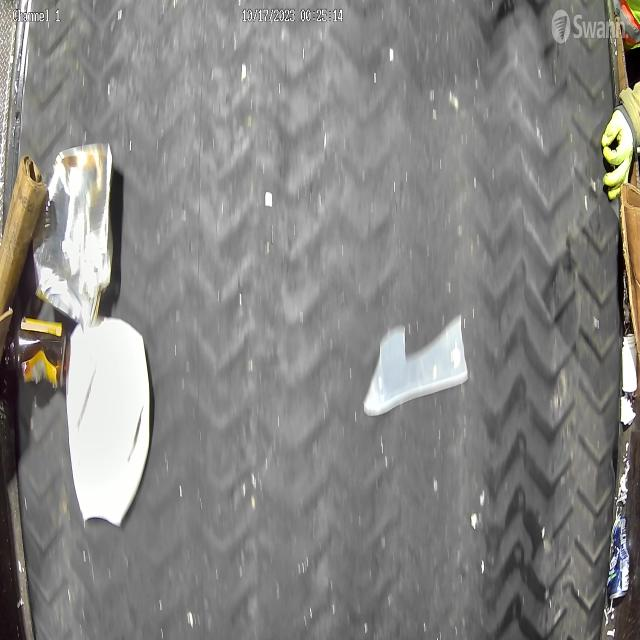can: (32, 142, 113, 326), (606, 514, 630, 600)
milk_jug: (67, 317, 154, 527)
